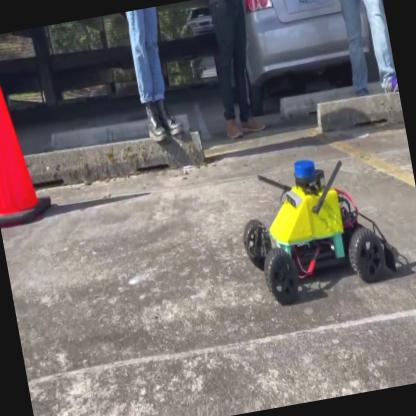cone: (0, 30, 56, 226)
mushr_car: (228, 145, 404, 317)
